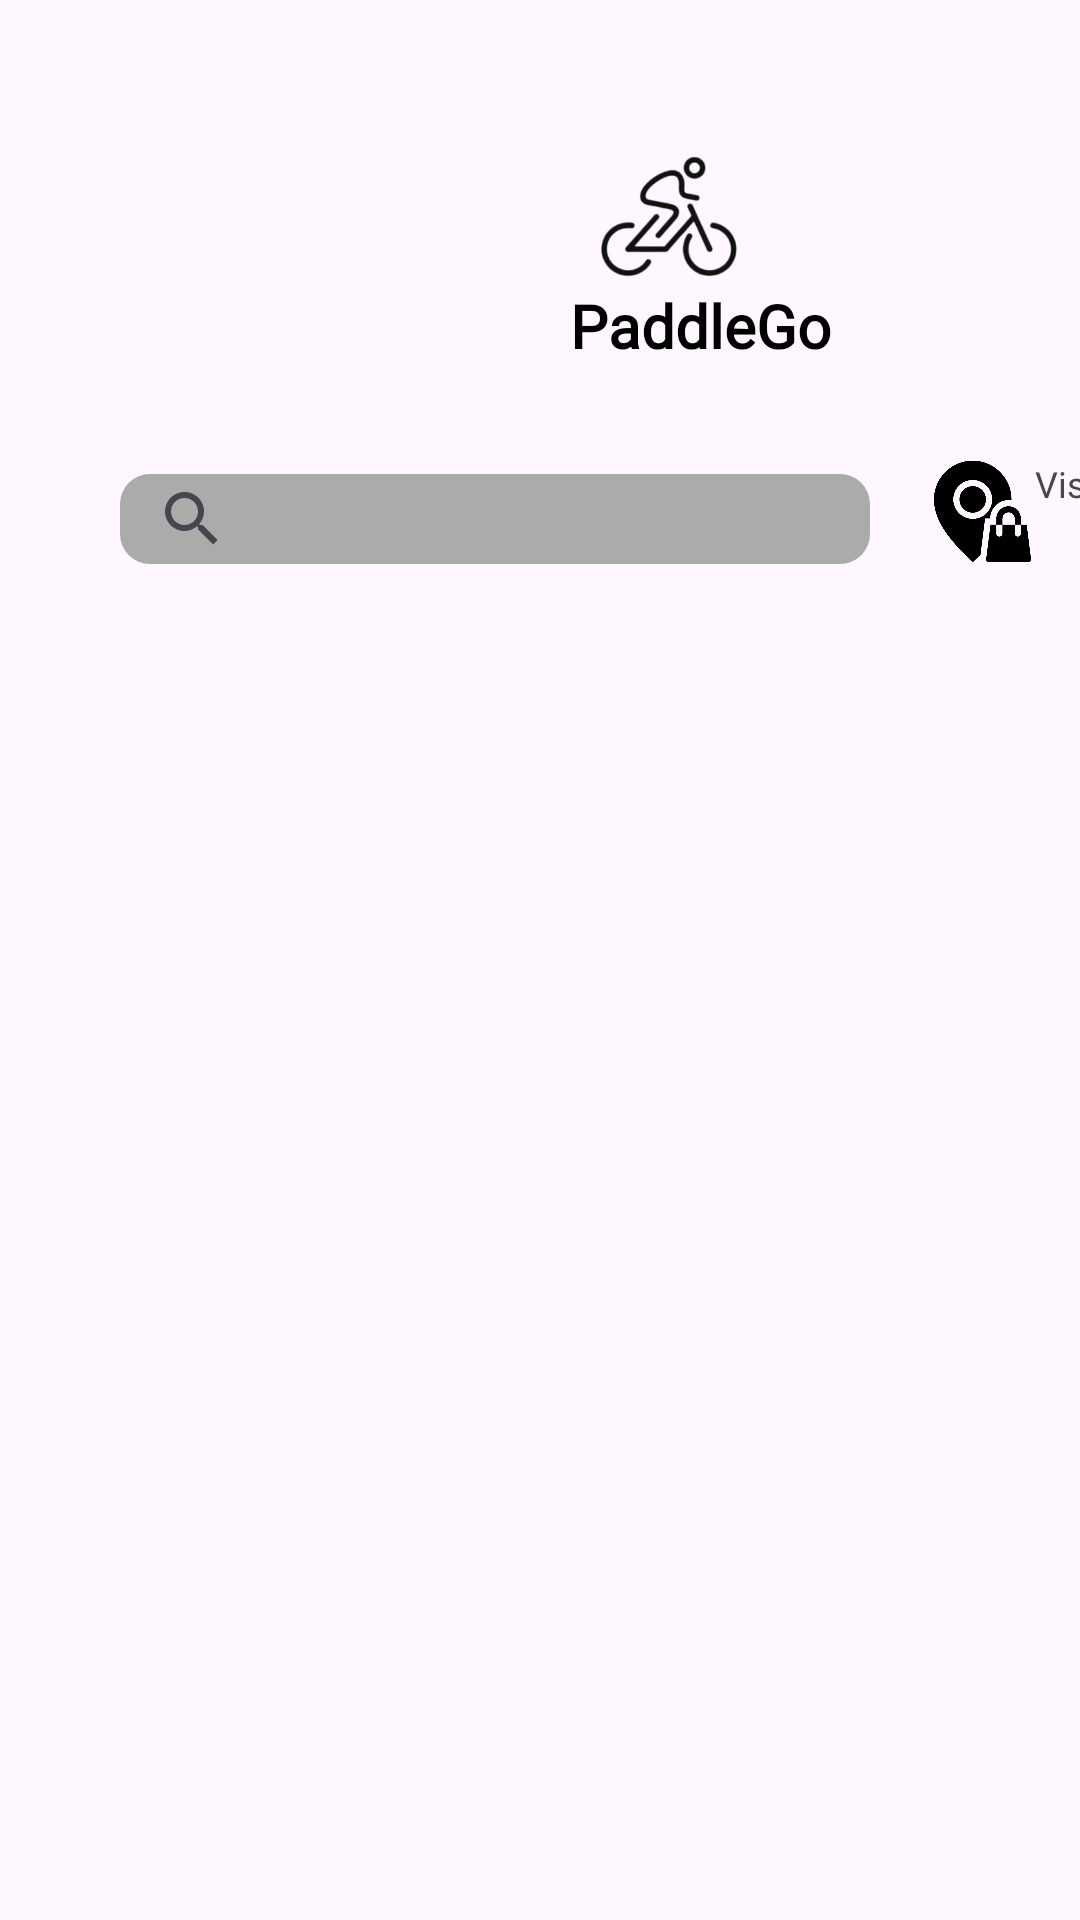

Icon bounding boxes for this 1080×1920 phone screenshot, format (x1, y1, x2, y2):
shoplocation: (934, 461, 1031, 562)
